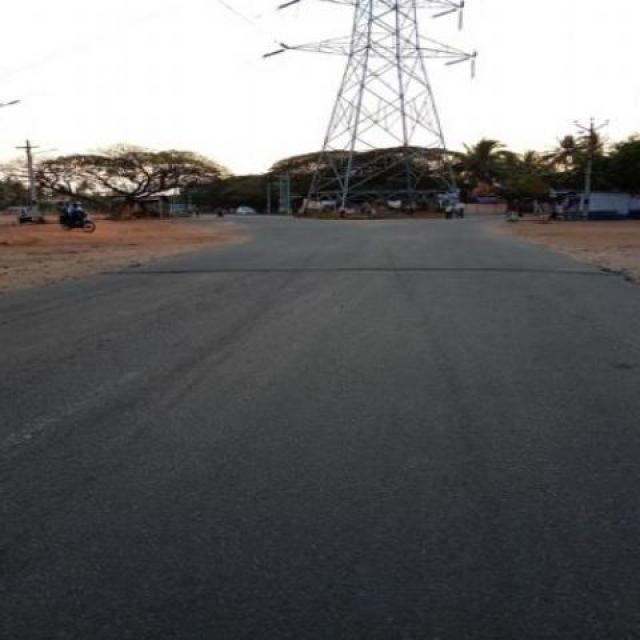Pothole: (608, 360, 638, 370)
Unmarked Bump: (94, 264, 628, 280)
